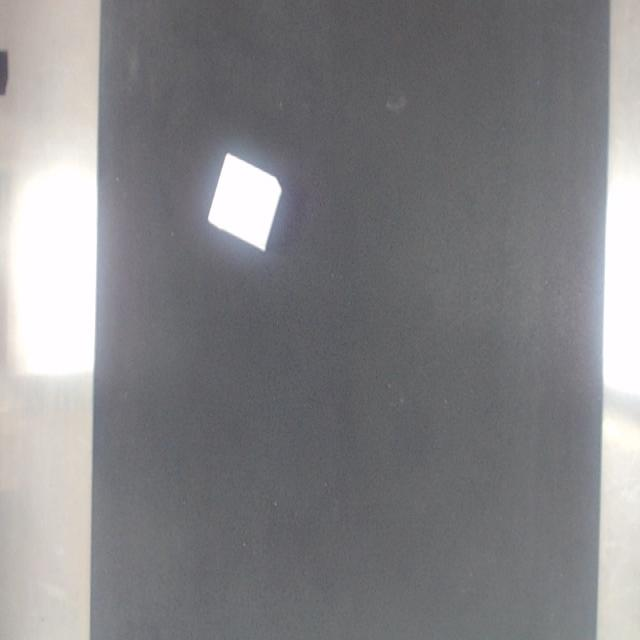Blanco: (208, 153, 281, 251)
